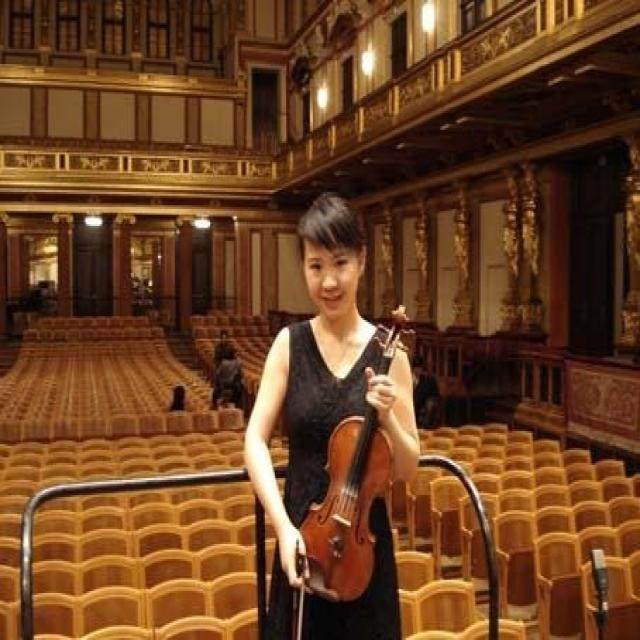violin: (292, 306, 415, 601)
